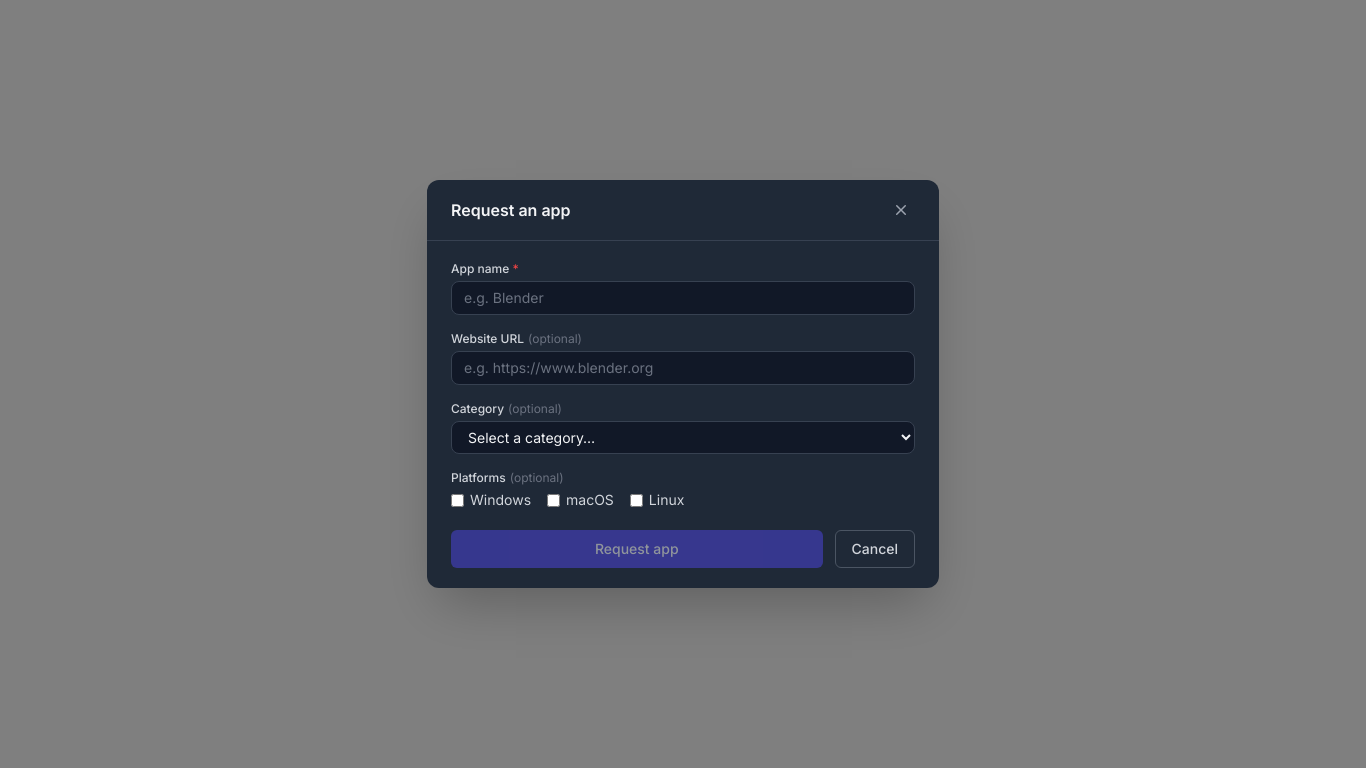
Test case: AppRequestModal › submit button is enabled when app name has text
In the field labelled "App name *": (683,298) x1=451 y1=281 x2=915 y2=315, type "Blender"
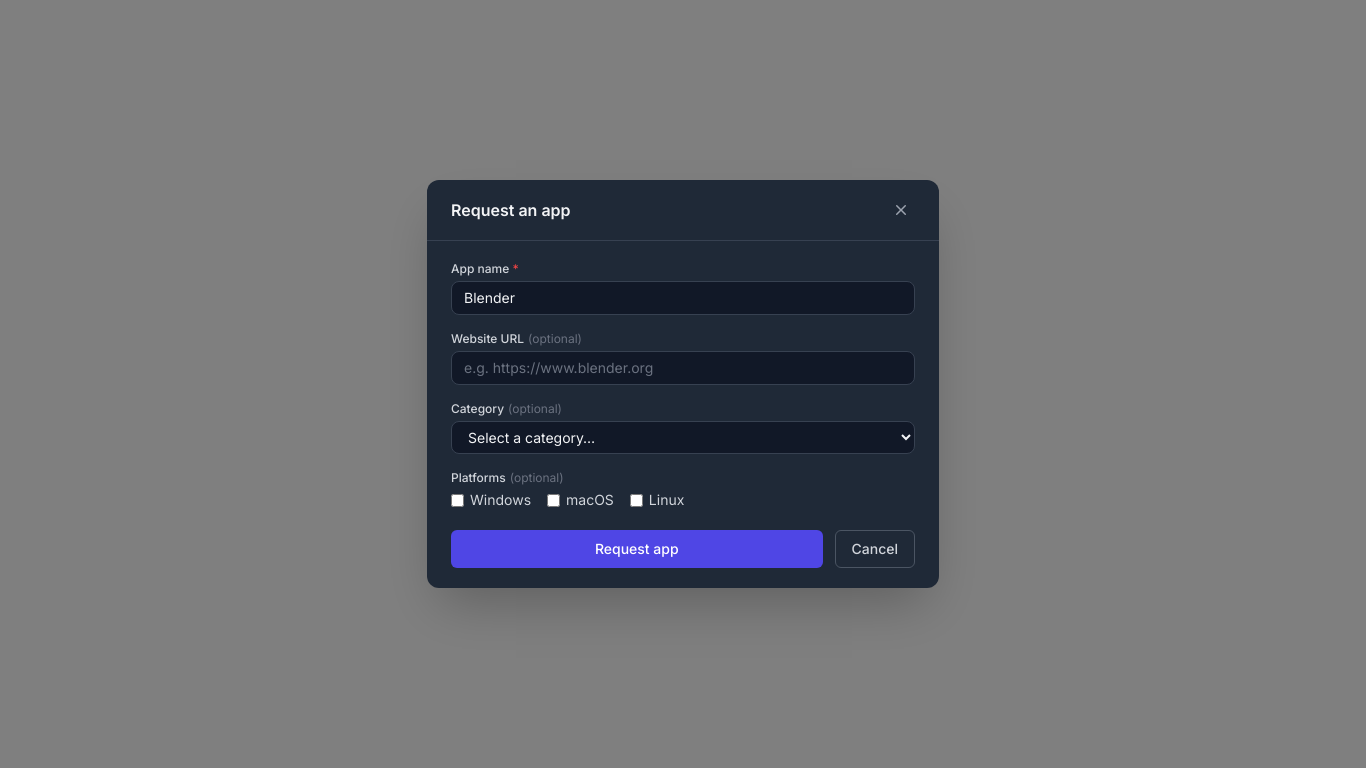
Result: the button "Request app" is enabled at x1=451 y1=530 x2=822 y2=568
